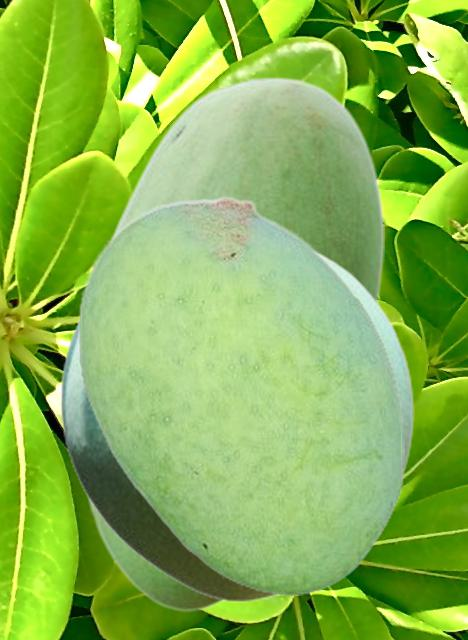green_mango: (80, 76, 383, 611), (78, 195, 403, 594), (60, 248, 413, 601)
